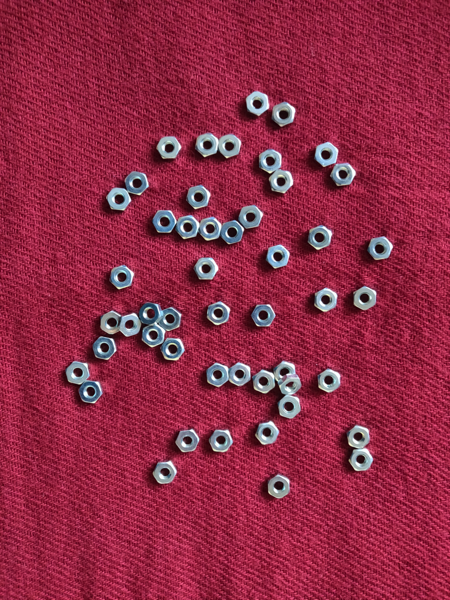nut: (271, 99, 296, 129), (237, 205, 264, 232), (352, 285, 379, 312), (245, 90, 271, 118), (330, 163, 357, 189), (307, 224, 334, 250), (268, 168, 294, 195), (206, 300, 232, 327), (266, 244, 292, 270), (109, 265, 135, 291), (254, 420, 280, 446), (208, 428, 234, 454), (123, 171, 150, 196), (368, 236, 394, 261), (258, 148, 283, 174), (92, 335, 118, 360), (266, 474, 292, 499), (156, 136, 183, 160), (227, 362, 254, 386), (106, 187, 135, 209), (153, 209, 178, 234), (65, 361, 90, 386), (317, 369, 342, 394), (315, 142, 339, 168), (218, 133, 242, 159), (187, 185, 211, 211), (251, 304, 277, 328), (162, 336, 186, 362), (177, 214, 200, 241), (348, 448, 375, 471), (195, 133, 220, 157), (195, 256, 219, 281), (315, 287, 339, 312), (159, 306, 183, 331), (99, 311, 124, 335), (347, 426, 371, 451), (278, 395, 302, 420), (175, 428, 199, 453), (153, 461, 178, 485), (139, 302, 165, 325), (221, 221, 245, 245), (142, 324, 166, 348), (79, 380, 103, 404), (199, 217, 222, 242), (119, 312, 142, 337), (278, 374, 303, 397), (252, 370, 276, 393), (206, 363, 229, 386), (274, 360, 297, 383)
